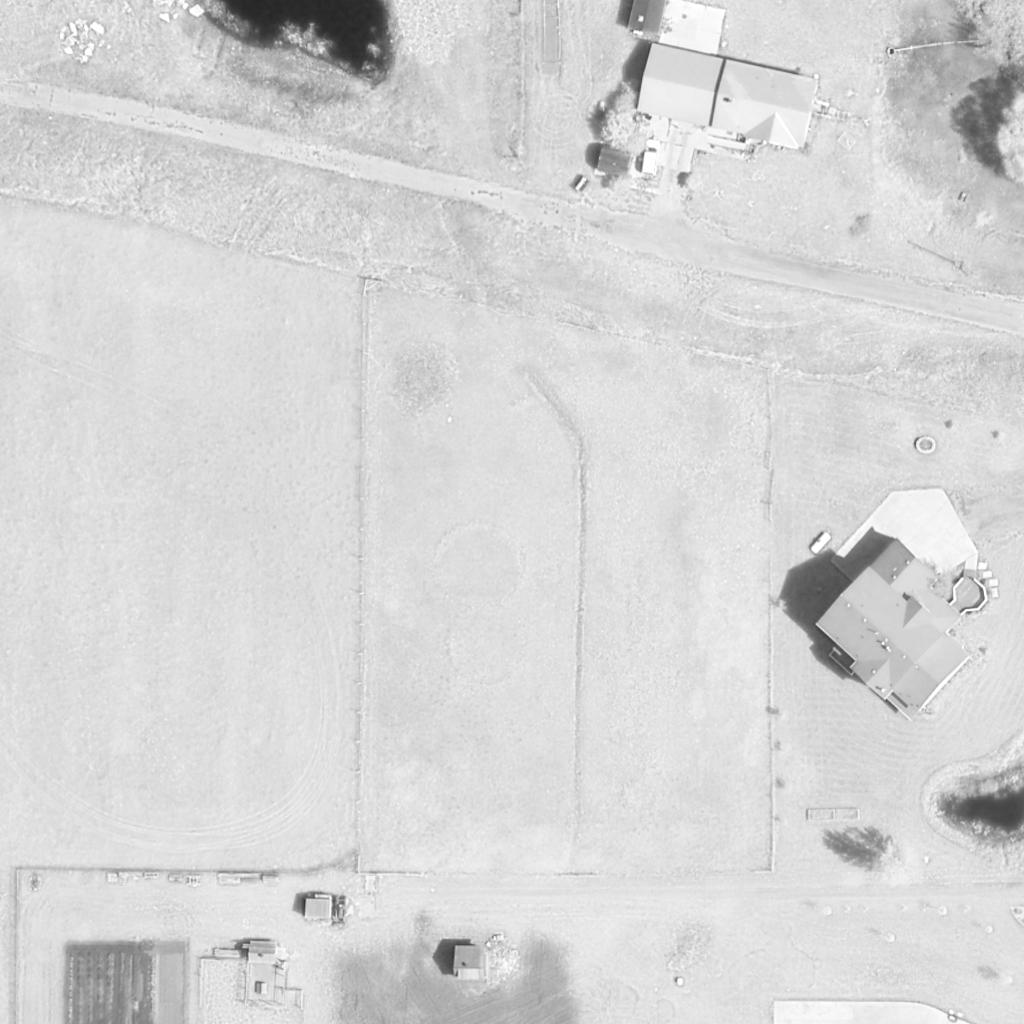vehicle: (640, 138, 662, 180), (333, 895, 351, 929)
